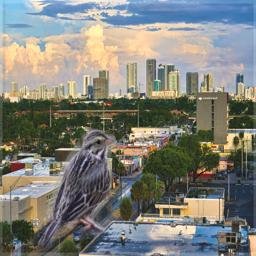Sparrow: (37, 128, 116, 249)
